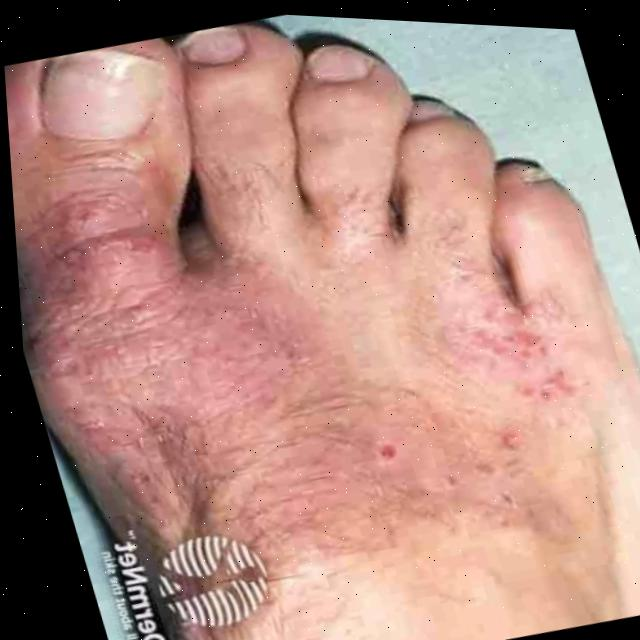Eczema: (41, 111, 628, 614)
